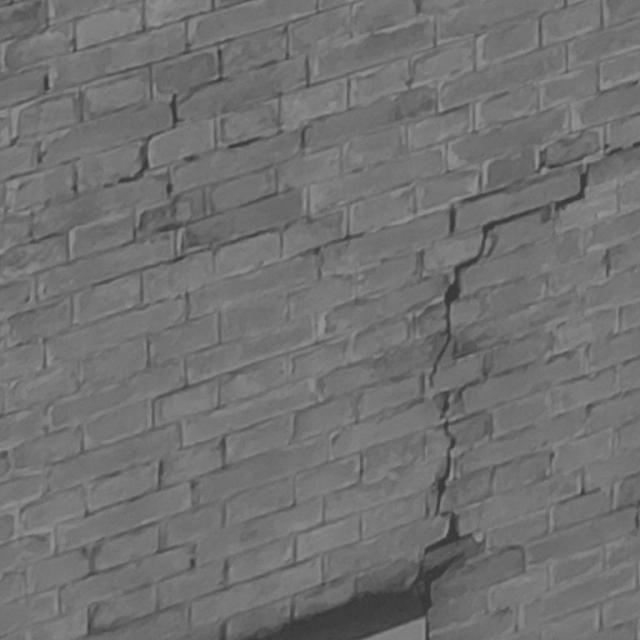crack: (422, 141, 640, 610)
